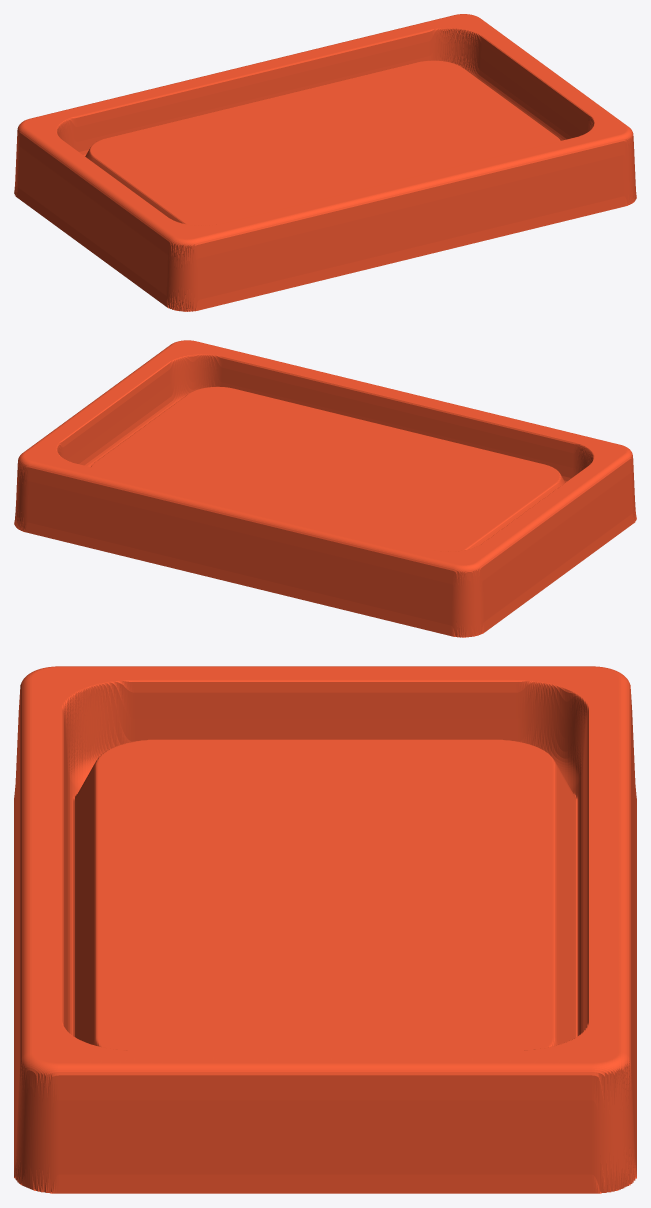
Rendered from mold.glb.
3 views of the same model, one above another, from view 1: azimuth 30°, elevation 25°; view 2: azimuth 150°, elevation 25°; view 3: azimuth 270°, elevation 25° (orthographic). The views are drawn at different scales.
Parts seen in each view (by area): view 1: geometry_0; view 2: geometry_0; view 3: geometry_0.
Part boxes in pixels (x1,y1,x2,y2): geometry_0: (14, 14, 636, 311); geometry_0: (14, 340, 636, 637); geometry_0: (14, 666, 636, 1193).
Size of the model in its own units: 0.1985 by 0.0277 by 0.1272.
